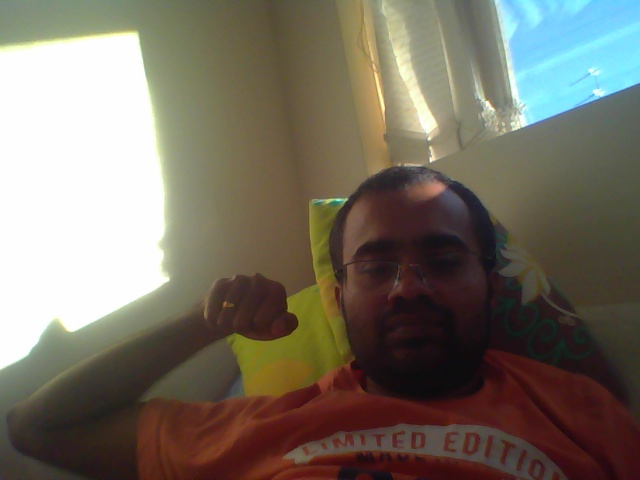Thankyou: (197, 266, 301, 344)
